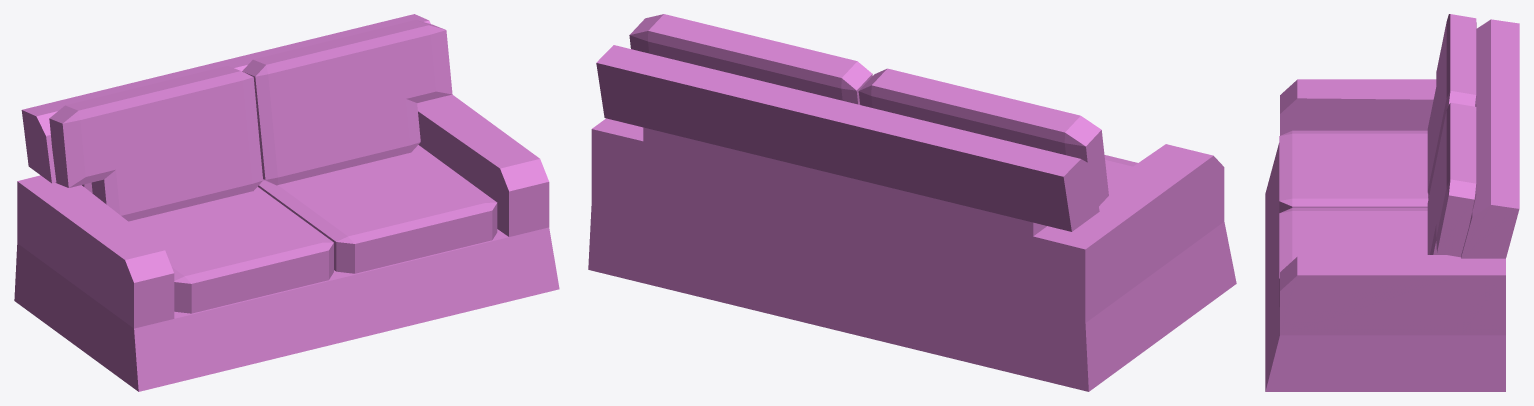
File: SofaDouble.glb
The picture shows the model from 3 angles, left to right: view 1: azimuth 30°, elevation 25°; view 2: azimuth 150°, elevation 25°; view 3: azimuth 270°, elevation 25°; orthographic projection. The views are drawn at different scales.
Visible parts, largest first — view 1: SofaDouble; view 2: SofaDouble; view 3: SofaDouble.
Part boxes in pixels (box(x1,y1,x2,y2)): SofaDouble: box(14, 14, 559, 391); SofaDouble: box(588, 14, 1236, 391); SofaDouble: box(1265, 14, 1519, 391).
Bounding box in the file's own units: 1.36 × 0.6275 × 0.737.
